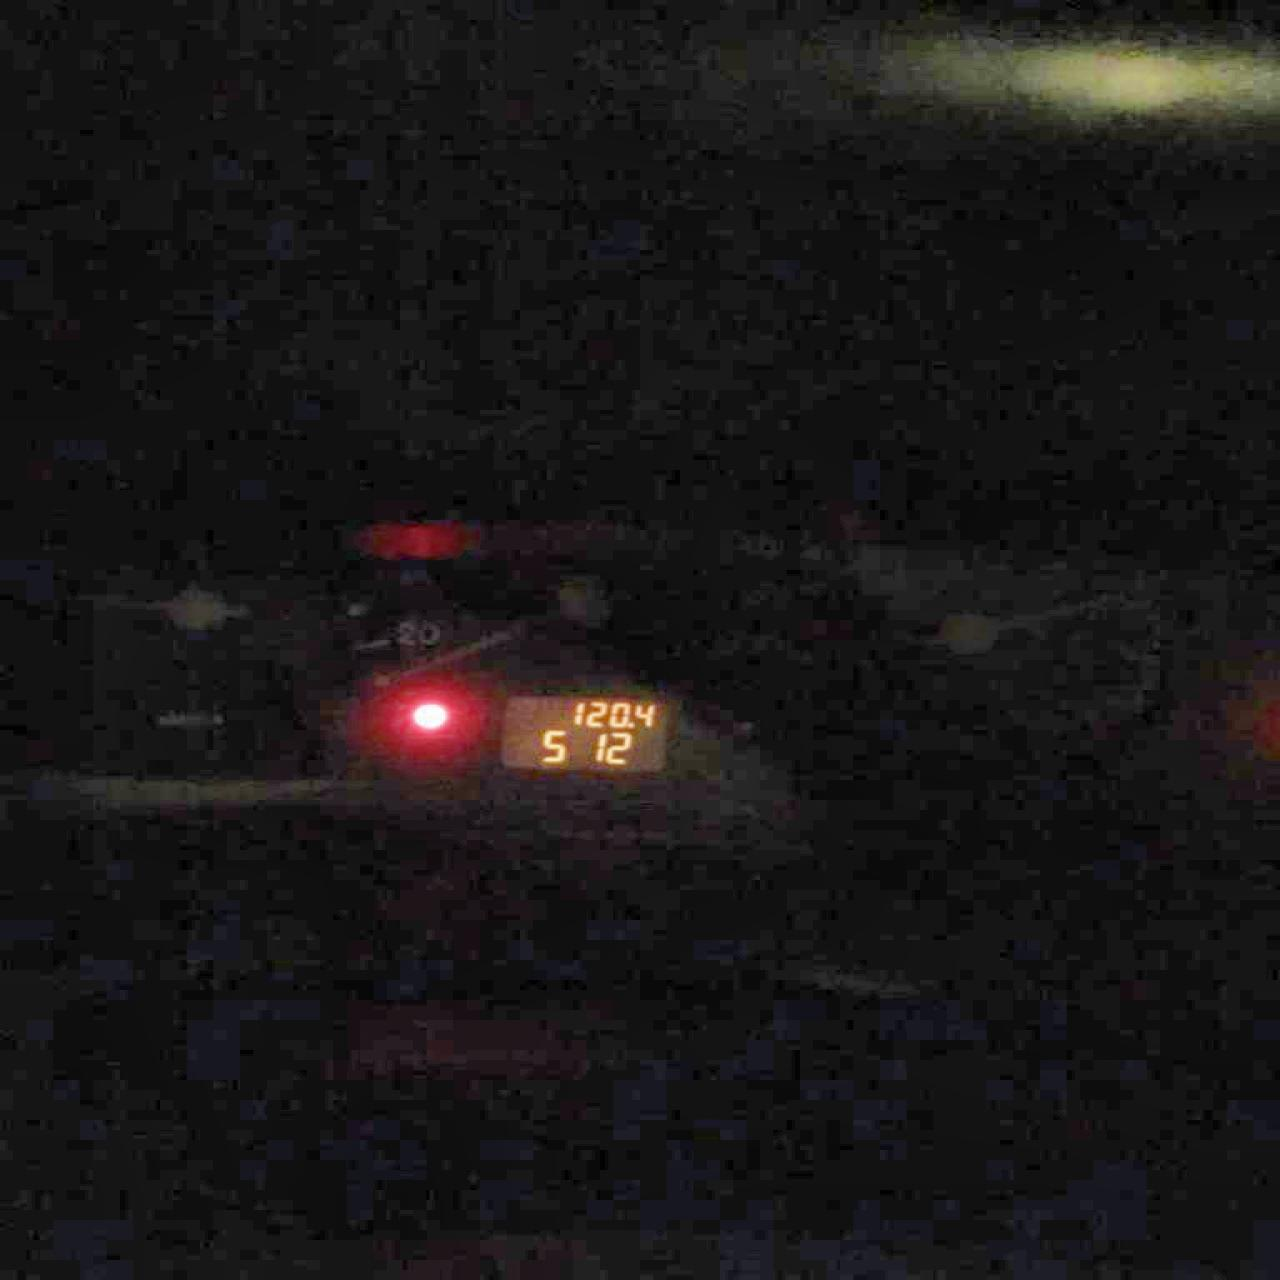-: (627, 722, 635, 728)
0: (608, 700, 628, 729)
1: (594, 731, 604, 767), (573, 700, 584, 726)
2: (606, 730, 632, 765), (585, 700, 605, 726)
4: (633, 702, 659, 727)
5: (539, 728, 568, 763)
odometer: (495, 688, 675, 772)
